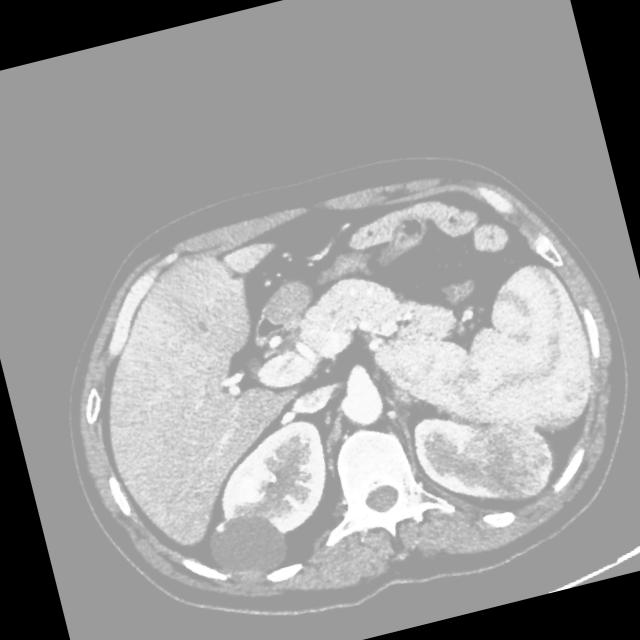TUMOR: (137, 109, 585, 560)
